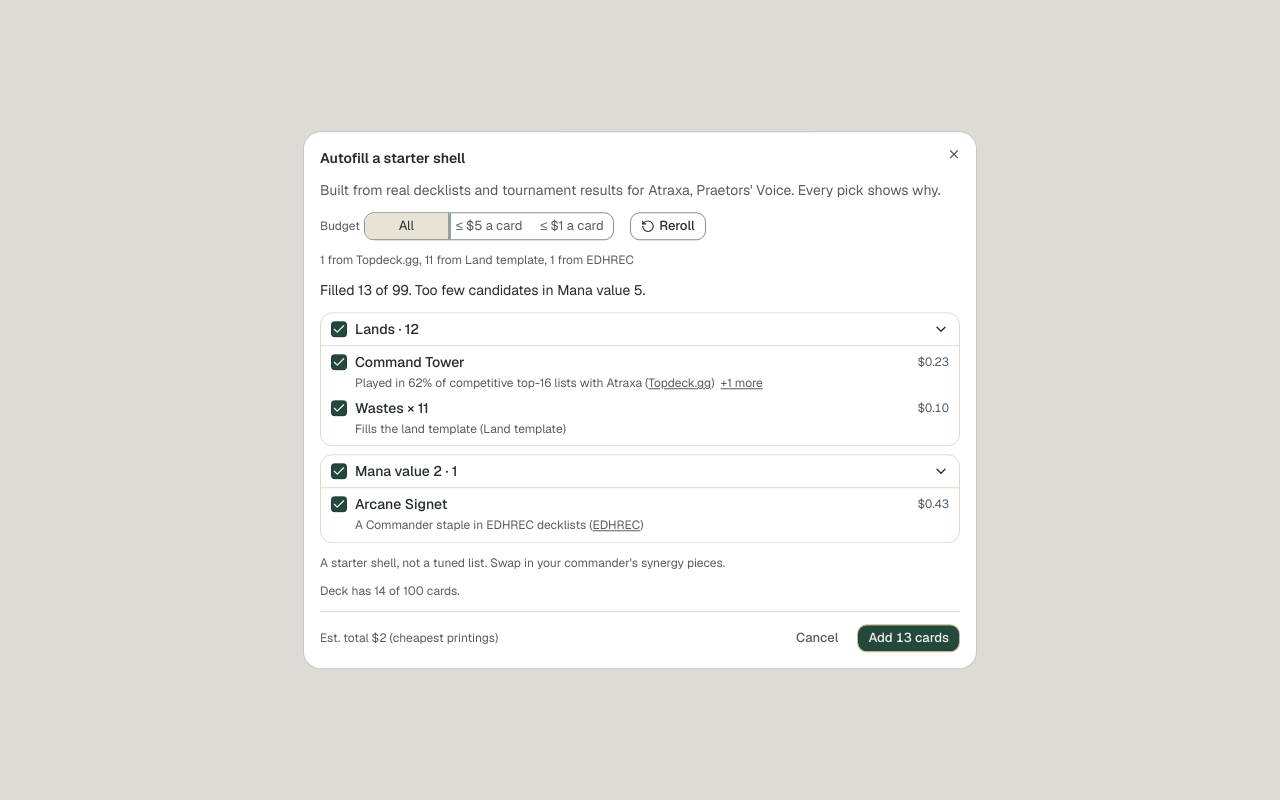
AutofillSheet › unchecking rows updates the count; the group checkbox clears its rows; '+1 more' expands the evidence
Expected: the text "Lands · 12" is shown, [355, 320, 419, 338]
Click the checkbox named "Include Wastes × 11" at (339, 408), box [331, 400, 347, 416]
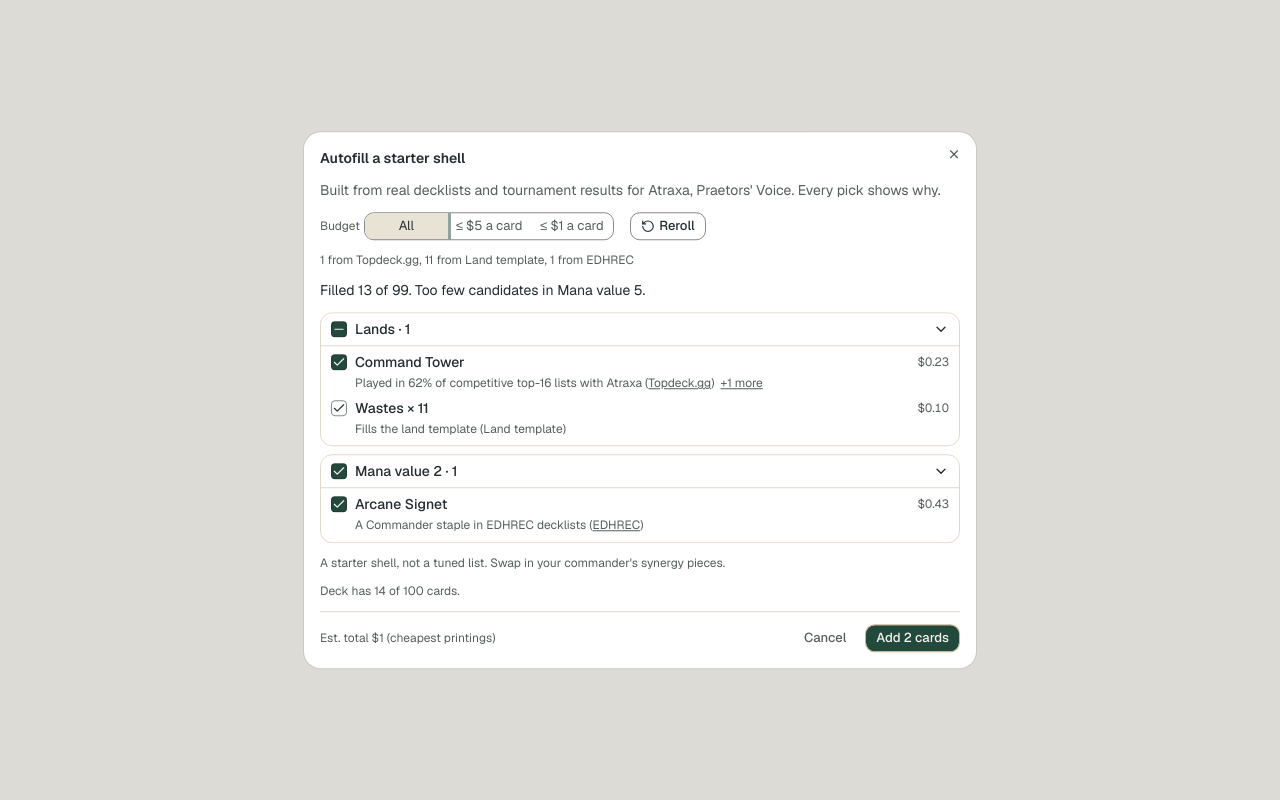
Expected: the text "Lands · 1" is shown, [355, 320, 410, 338]
Expected: the button "Add 2 cards" is shown, [865, 624, 960, 652]
// Indeterminate group checkbox: first click checks all, the next clears all.
Click the checkbox named "Include Lands" at (339, 329), box [331, 321, 347, 337]
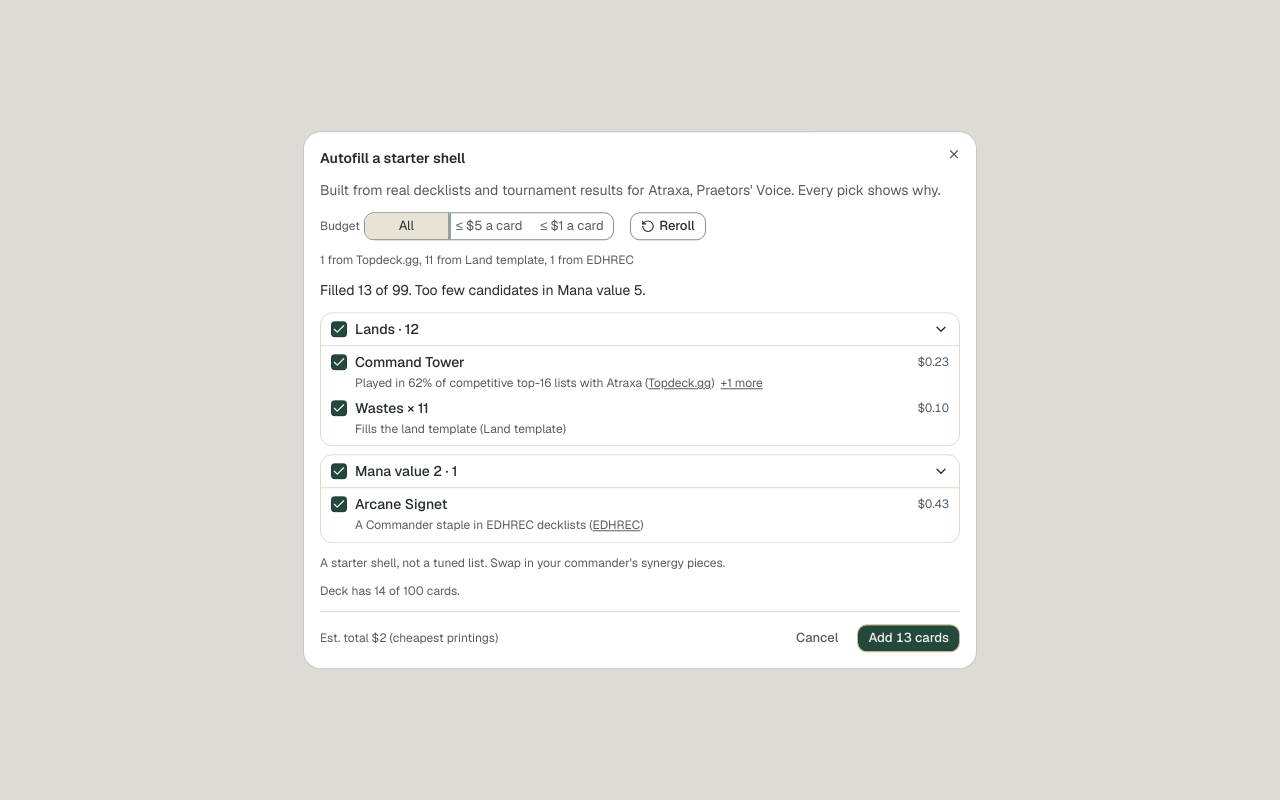
Expected: the button "Add 13 cards" is shown, [857, 624, 960, 652]
Click the checkbox named "Include Lands" at (339, 329), box [331, 321, 347, 337]
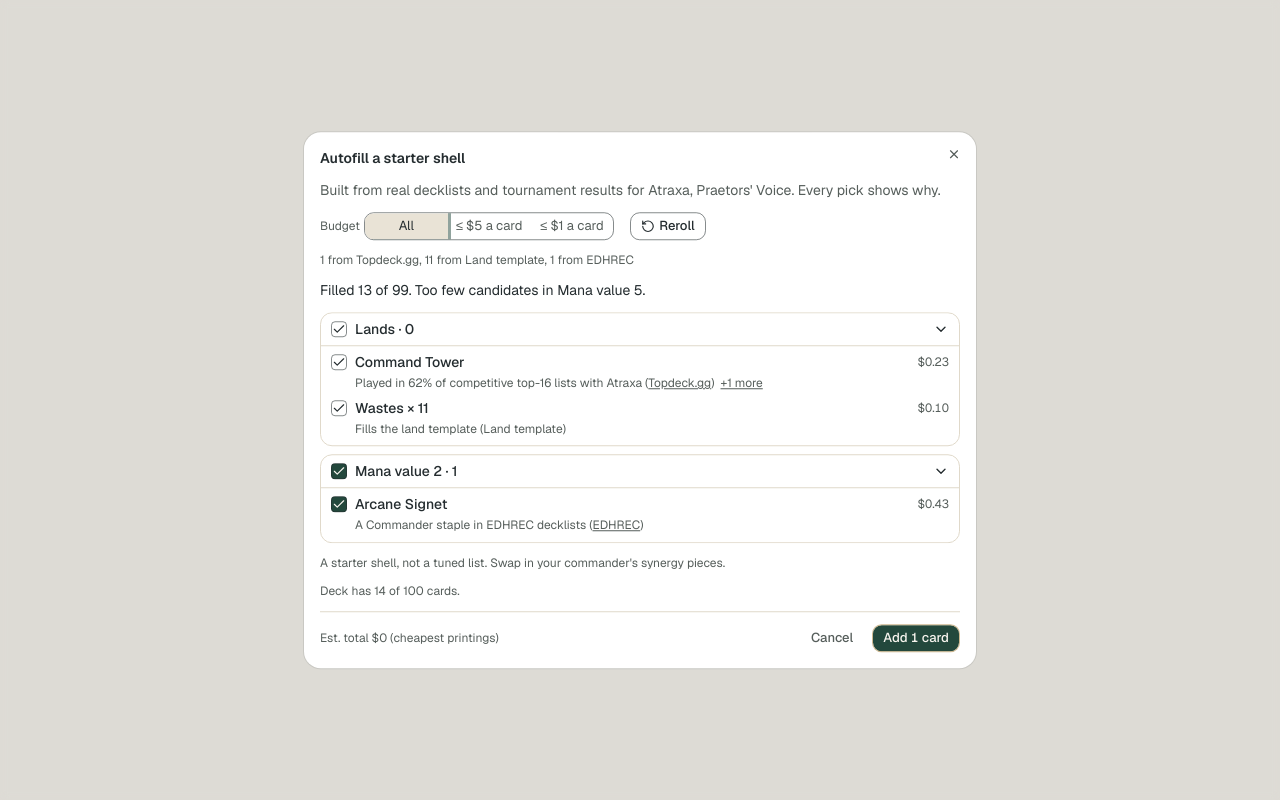
Expected: the text "A Commander staple in EDHREC decklists ( EDHREC )" is shown once, [355, 517, 644, 533]
Expected: the button "Add 1 card" is shown, [872, 624, 960, 652]
Click the button "+1 more" at (742, 384), box [720, 374, 763, 394]
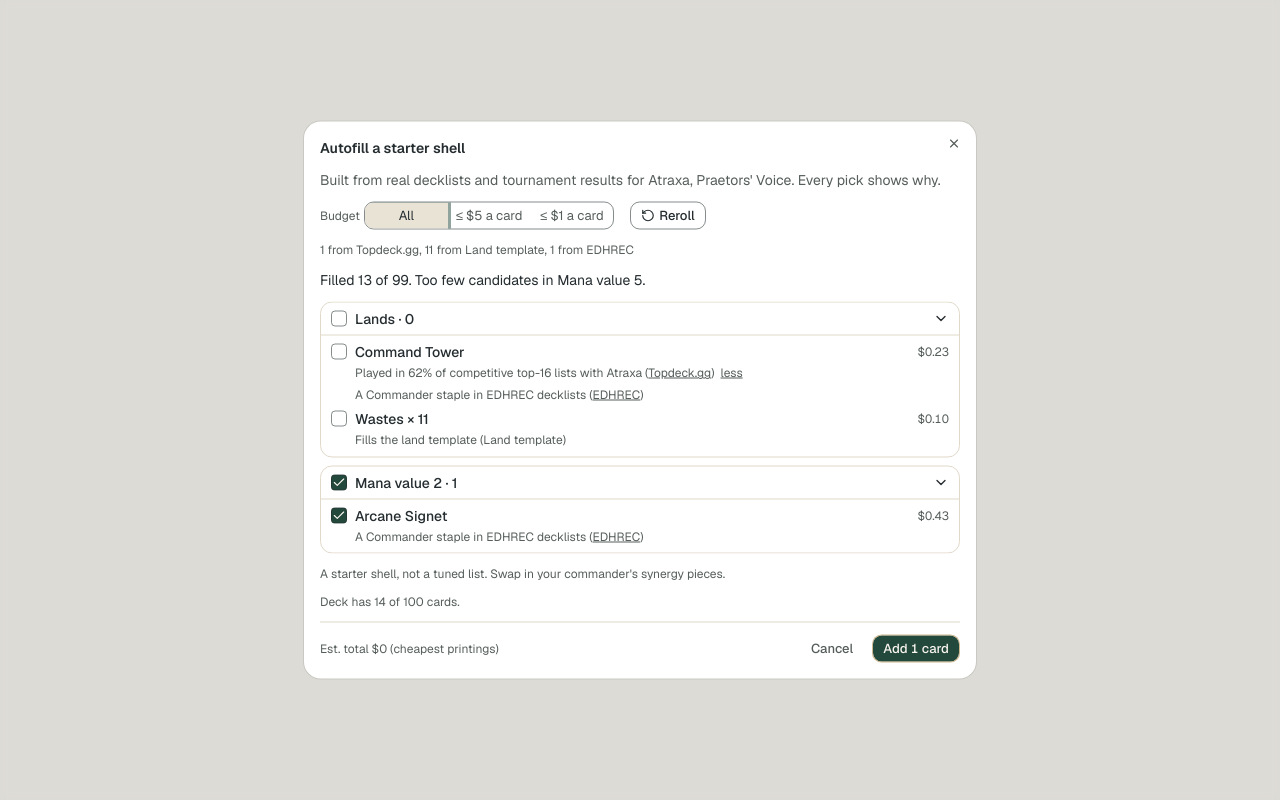
Expected: the text "A Commander staple in EDHREC decklists ( EDHREC )" is shown 2 times, [355, 386, 644, 402]; [355, 528, 644, 544]
